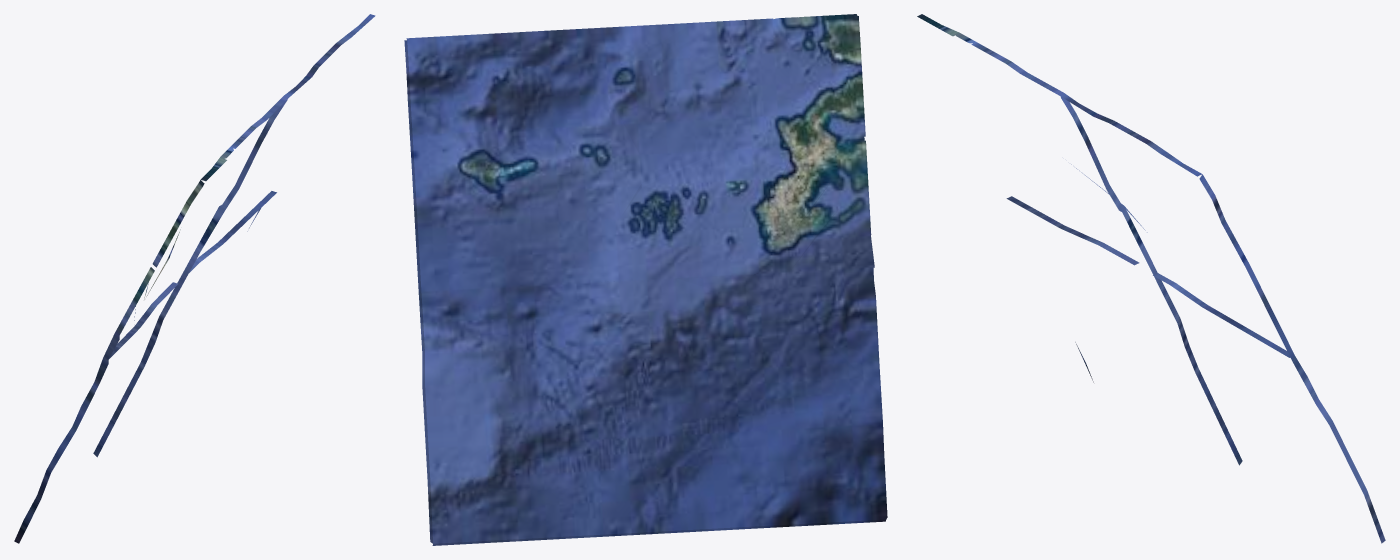
3 renders of one model, left to right at view 1: azimuth 30°, elevation 25°; view 2: azimuth 150°, elevation 25°; view 3: azimuth 270°, elevation 25°, orthographic. The views are drawn at different scales.
Bounding box in the file's own units: 154630 × 143792 × 141118.
1 material, 1 textured.
